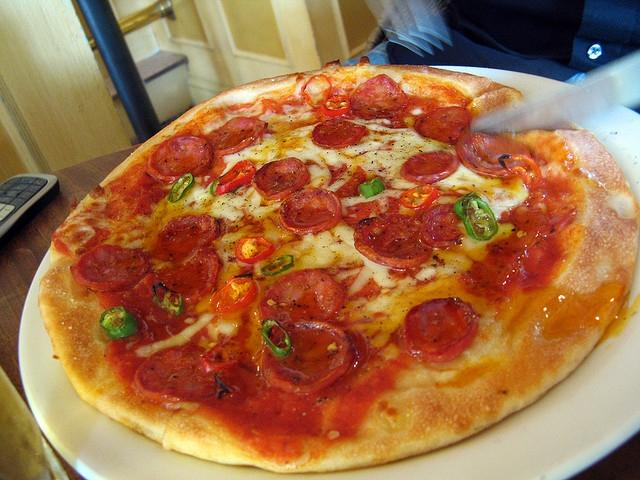bell pepper: (454, 192, 498, 241), (210, 276, 258, 316), (498, 153, 543, 190), (215, 160, 258, 194), (100, 306, 139, 340), (262, 317, 292, 356), (236, 236, 276, 264), (202, 344, 238, 374), (400, 185, 440, 212), (301, 74, 332, 108), (168, 172, 195, 204), (320, 95, 352, 118), (260, 255, 294, 276), (359, 176, 385, 198)
